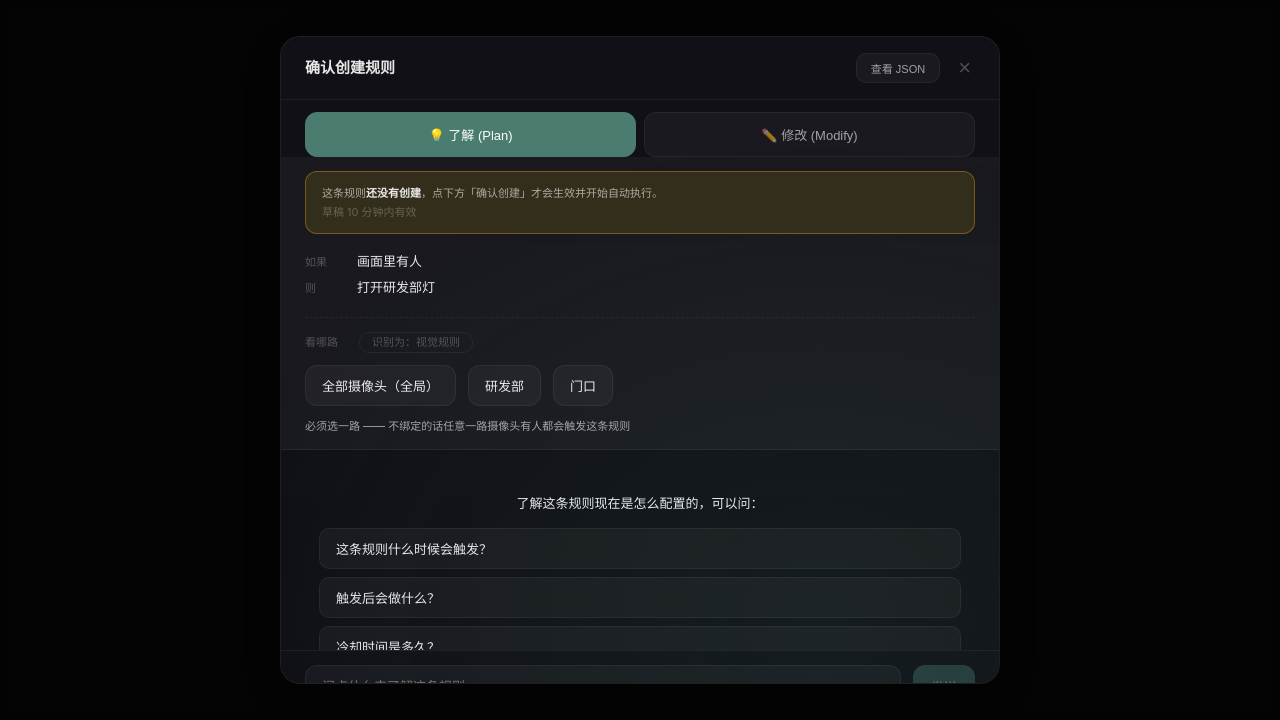
Test: ReviseChatModal pending 模式 › plan 提问走 pending explain 端点，body 带 session_id 不带 current
Click the button "这条规则什么时候会触发？".
click(414, 549)  # box [319, 528, 961, 569]
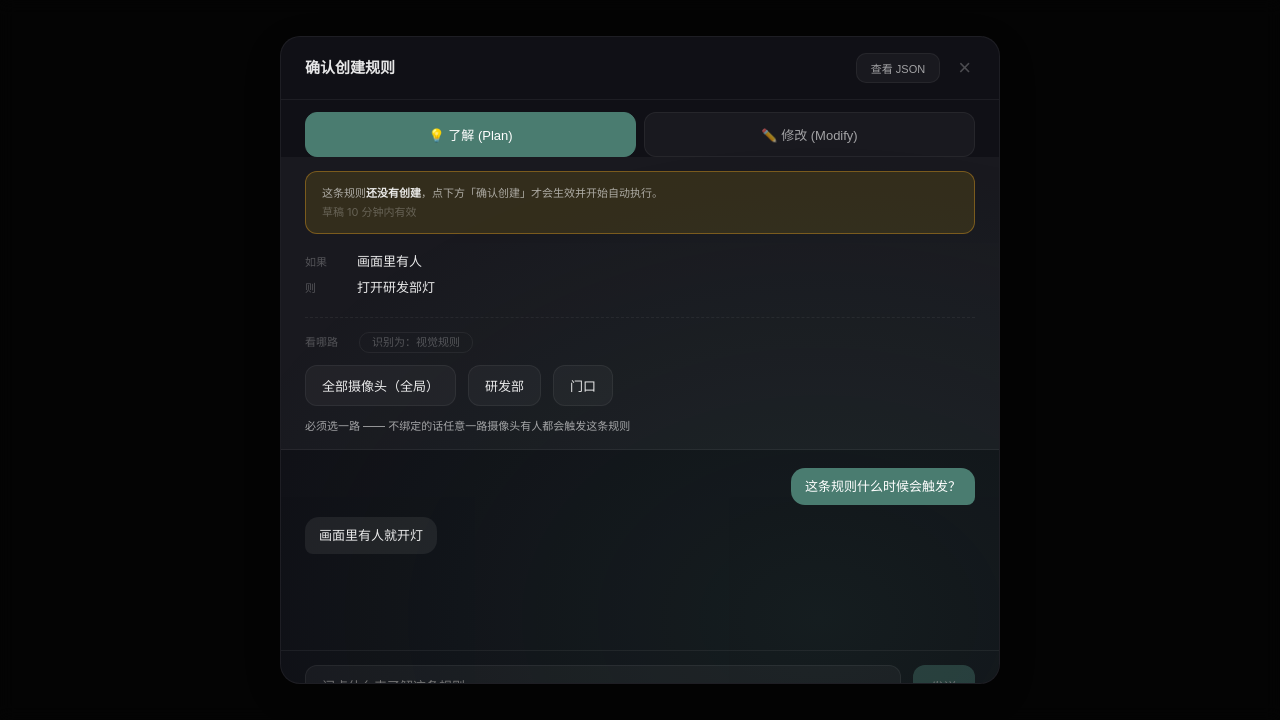
Expected: the text "画面里有人就开灯" is shown, [319, 527, 423, 543]
